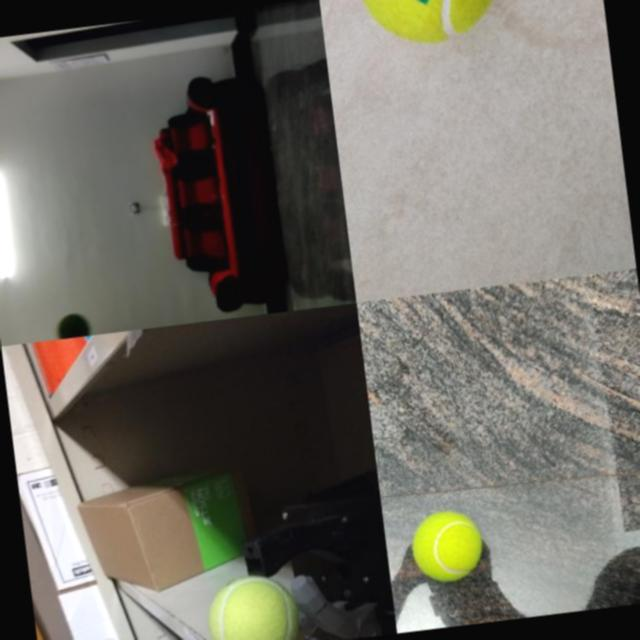tennis-ball: (356, 0, 507, 51), (202, 569, 302, 640), (408, 506, 486, 584), (53, 309, 93, 338)
